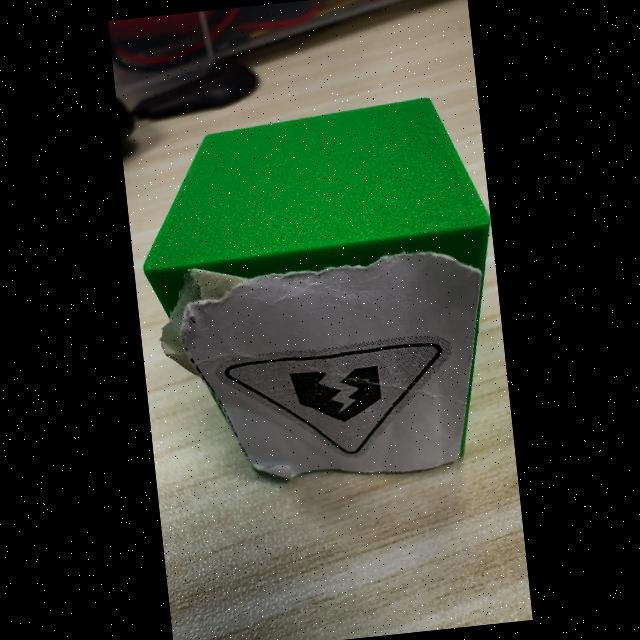Earthquake: (222, 339, 448, 454)
